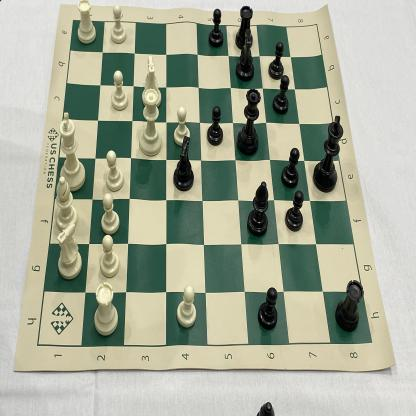black-bishop: (248, 180, 269, 238)
black-king: (312, 114, 345, 195)
black-knight: (170, 135, 197, 194), (232, 27, 256, 84)
black-pawn: (255, 282, 280, 333), (281, 190, 306, 234), (280, 143, 301, 192), (204, 103, 225, 149), (272, 72, 292, 118), (266, 37, 286, 82), (208, 5, 225, 52)
black-queen: (234, 87, 262, 159)
black-rook: (335, 271, 365, 334), (233, 4, 256, 50)
white-bishop: (52, 173, 80, 233)
white-king: (55, 109, 85, 191)
white-knight: (53, 221, 85, 280), (140, 52, 164, 112)
white-pawn: (172, 282, 200, 334), (97, 233, 121, 280), (101, 148, 126, 193), (97, 192, 121, 235), (107, 2, 129, 46), (109, 69, 130, 113), (171, 103, 191, 148)
white-queen: (138, 87, 164, 158)
white-rook: (91, 279, 120, 336), (72, 0, 98, 44)
